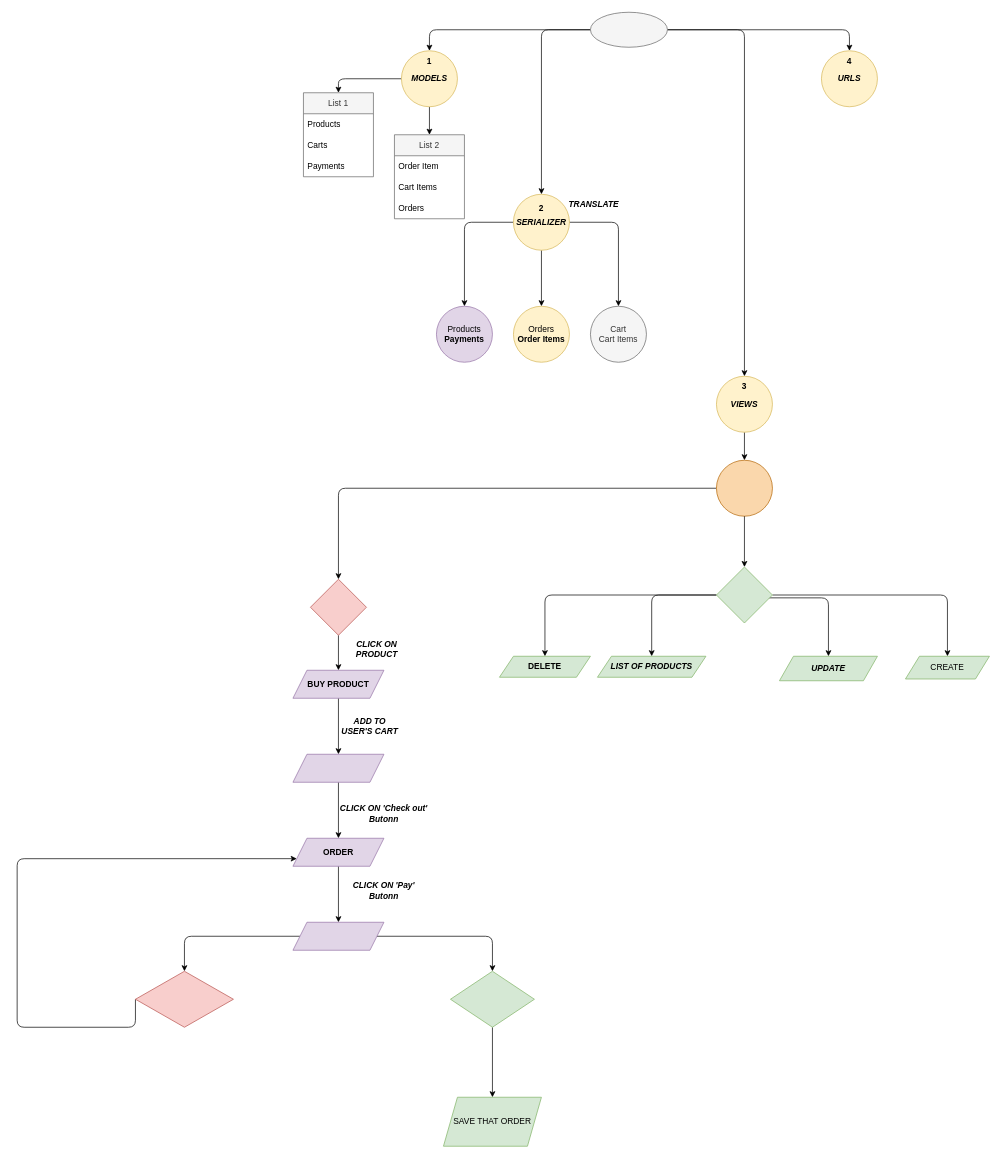
The diagram is 1002 pixels wide and 1159 high, and some of its shapes have lost their labels. Each missing label, with the centre of its shape:
"CRUD" goes at point (744, 488).
"IF ADMIN ?" goes at point (744, 594).
"IF NOT ADMIN" goes at point (338, 607).
"IF USER DOESN'T" goes at point (184, 999).
"IF USER PAID" goes at point (492, 999).
"PAYMENT" goes at point (338, 936).
"STORE" goes at point (628, 29).
"USER'S CART" goes at point (338, 768).
